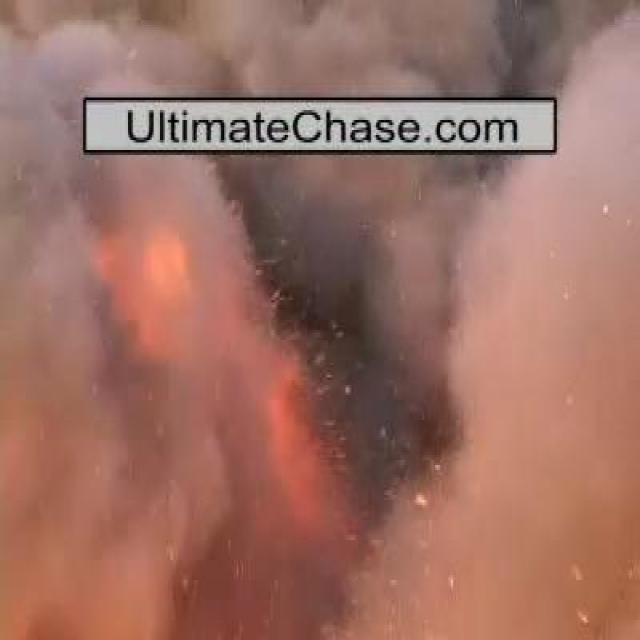Smoke: (34, 157, 584, 605)
